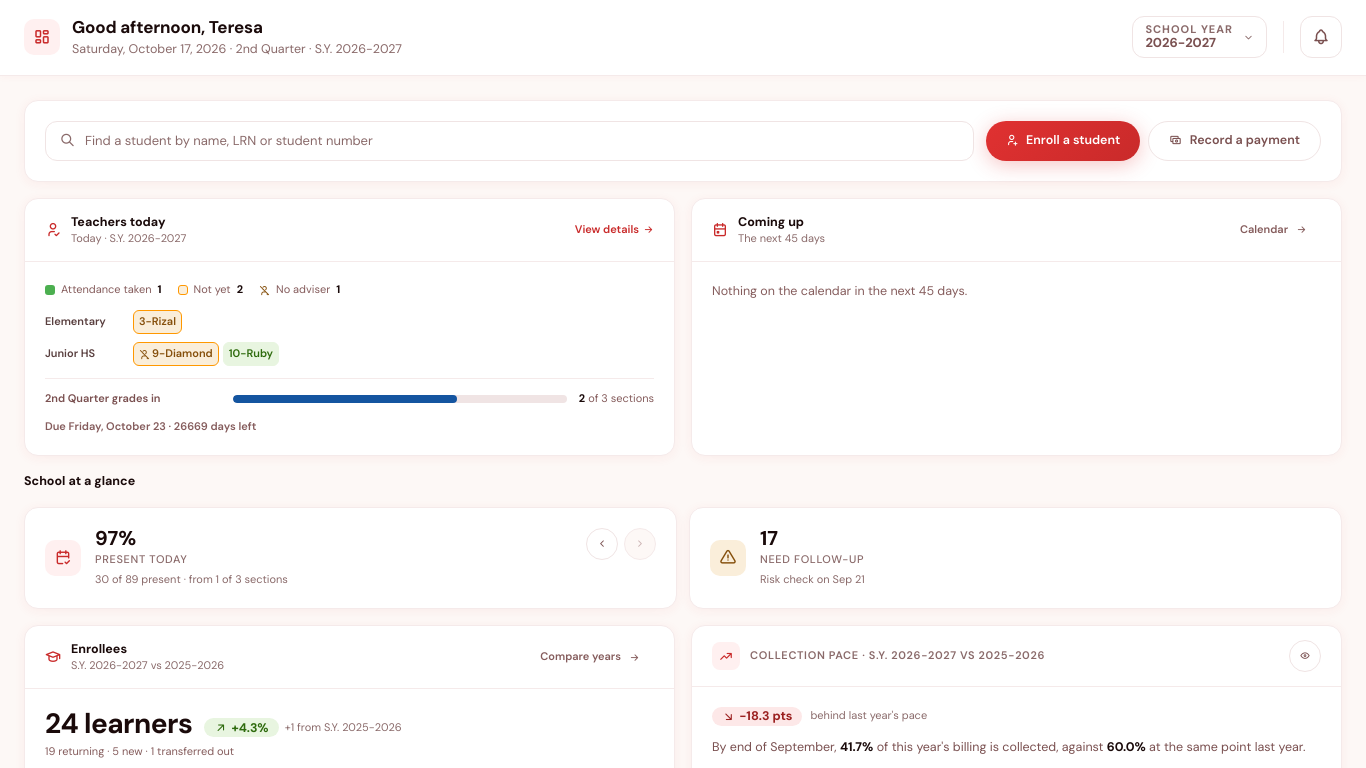
Test: AdminHome — needs your attention › leaves out empty queues, and says so when all are empty
The image size is (1366, 768).
Click the button named "Notifications, nothing new".
click(1321, 37)  # box [1300,16,1342,58]
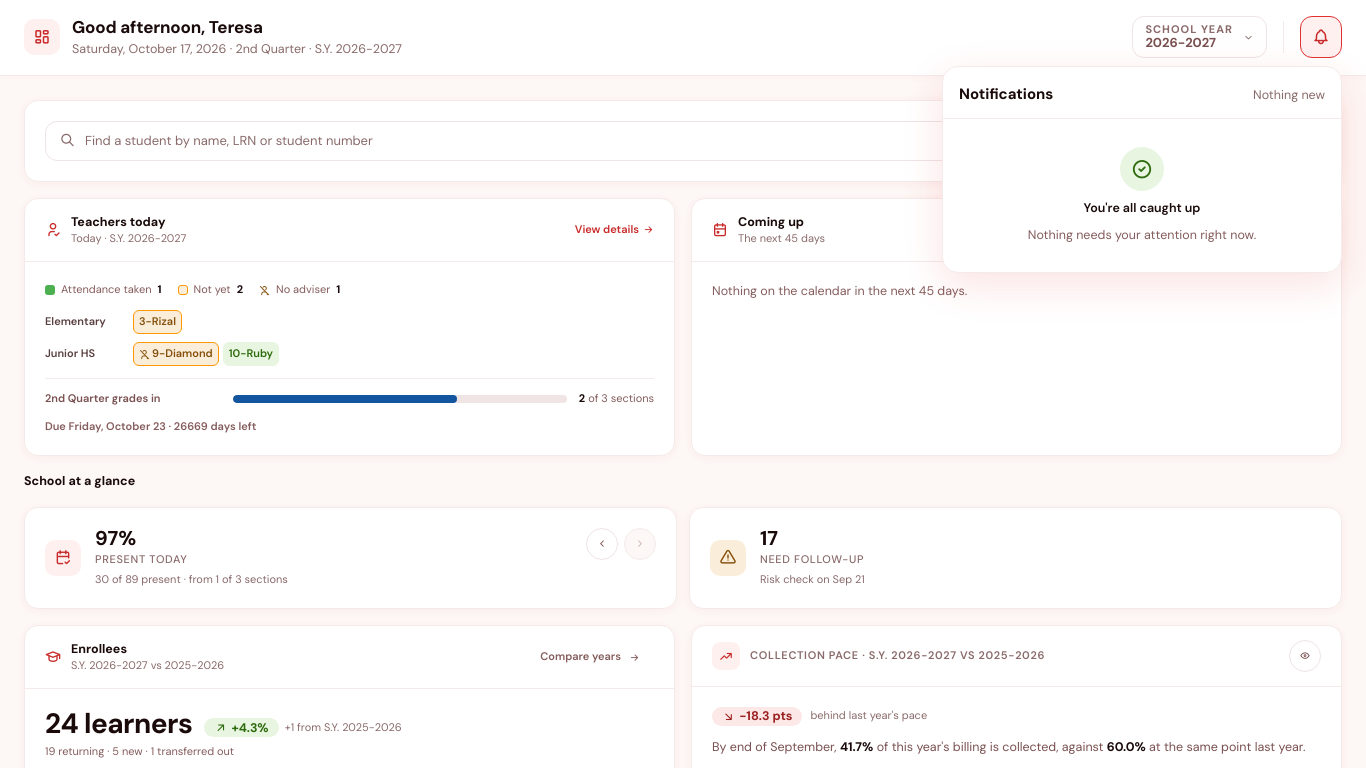
Result: the text "You're all caught up" is shown at [1084,199,1200,218]
